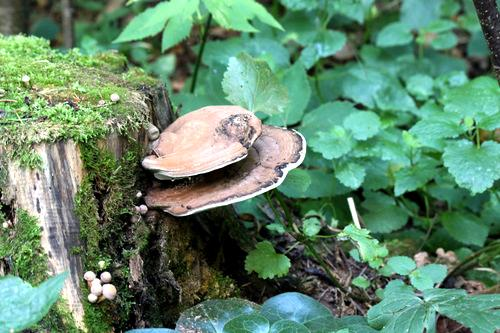Ganoderma - Fruit Body: (147, 102, 305, 221)
